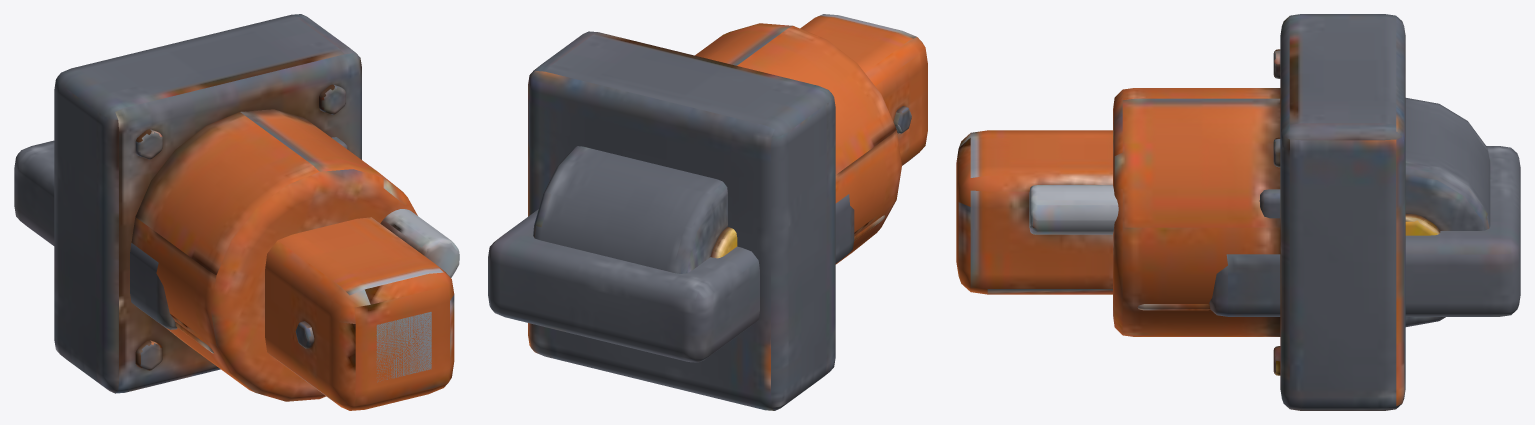
File: leg.glb
3 views of the same model, side by side, from view 1: azimuth 30°, elevation 25°; view 2: azimuth 150°, elevation 25°; view 3: azimuth 270°, elevation 25° (orthographic).
Parts seen in each view (by area): view 1: body, upper, foot, lower; view 2: body, foot, lower, upper; view 3: body, upper, foot, lower.
Part boxes in pixels (x1,y1,x2,y2): body: (54,14,417,401); upper: (265,137,459,410); foot: (14,140,213,353); lower: (376,312,431,382); body: (528,23,901,410); foot: (488,194,884,362); lower: (533,146,737,273); upper: (800,14,927,165); body: (1113,14,1405,410); upper: (956,130,1280,294); foot: (1137,146,1520,316); lower: (1405,98,1490,326).
Size of the model in its own units: 0.28 by 0.3 by 0.54.
Materials: 1 (1 with a texture image).
